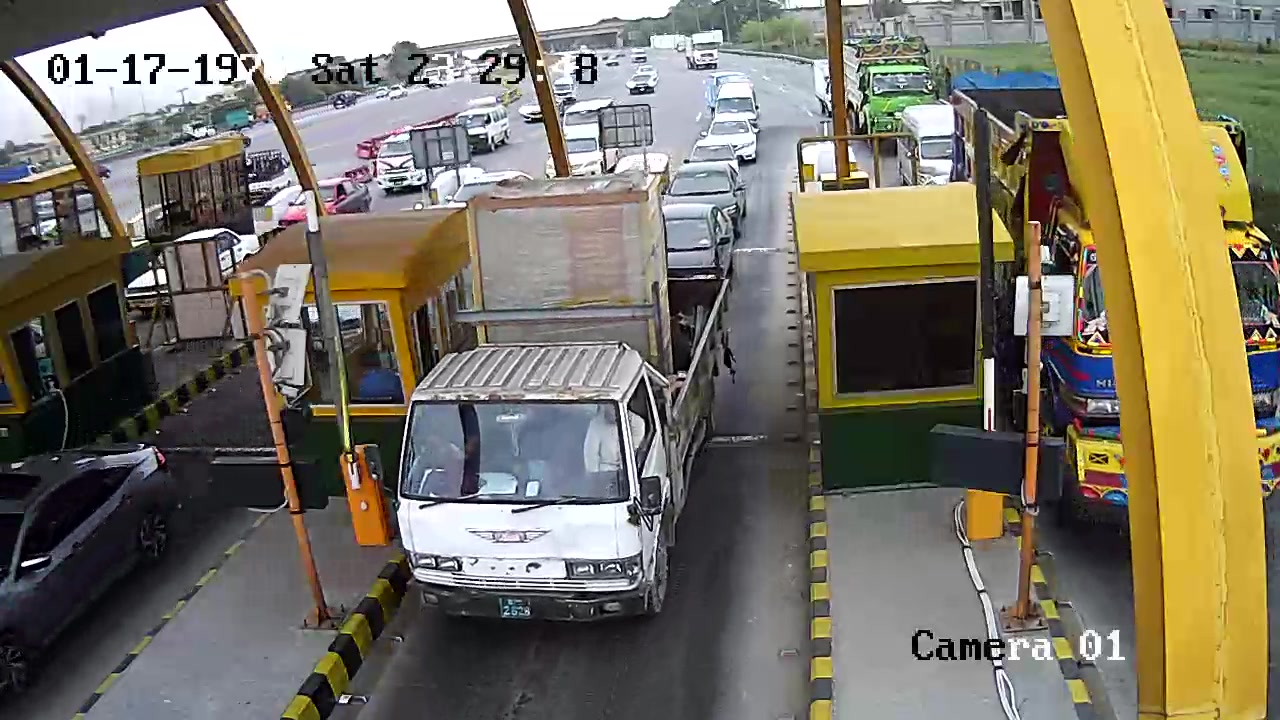F3: (381, 158, 737, 630)
